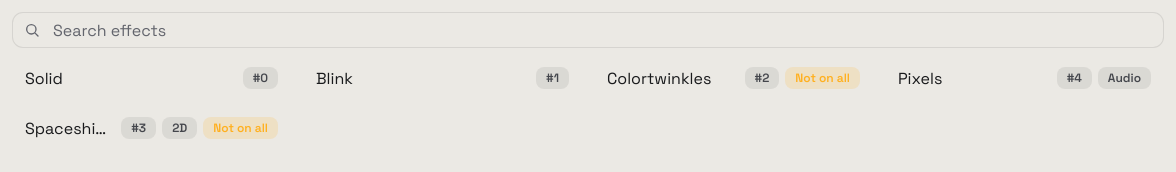
Test: EffectsTab › filters by search text
Type "twink" into the search field labelled "Search effects" at coordinates (588, 30), box top-left (12, 12), bottom-right (1164, 48)
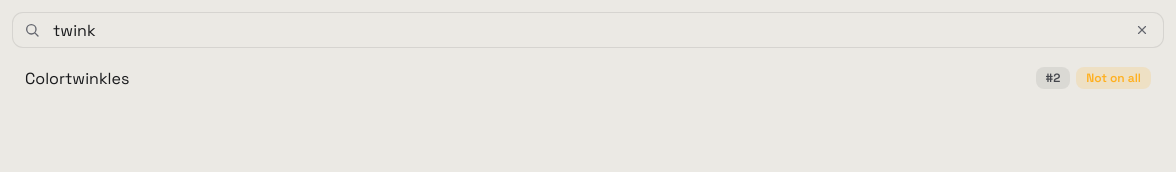
Expected: the button "Colortwinkles #2 Not on all" is shown, top-left (12, 56), bottom-right (1164, 100)
Result: the button "Blink" is gone
